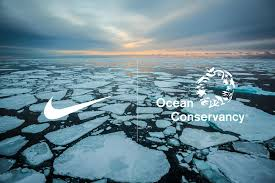nike: (37, 87, 126, 131)
